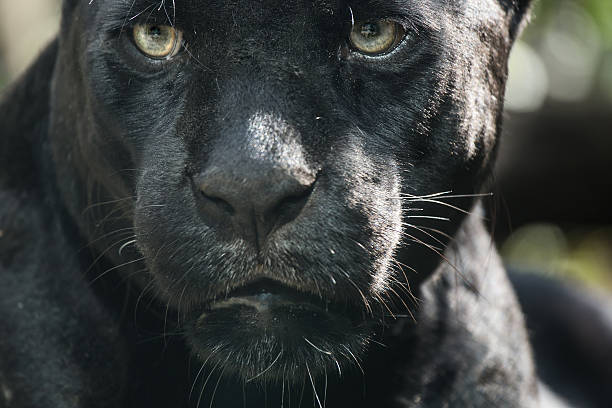panther: (52, 2, 537, 407)
